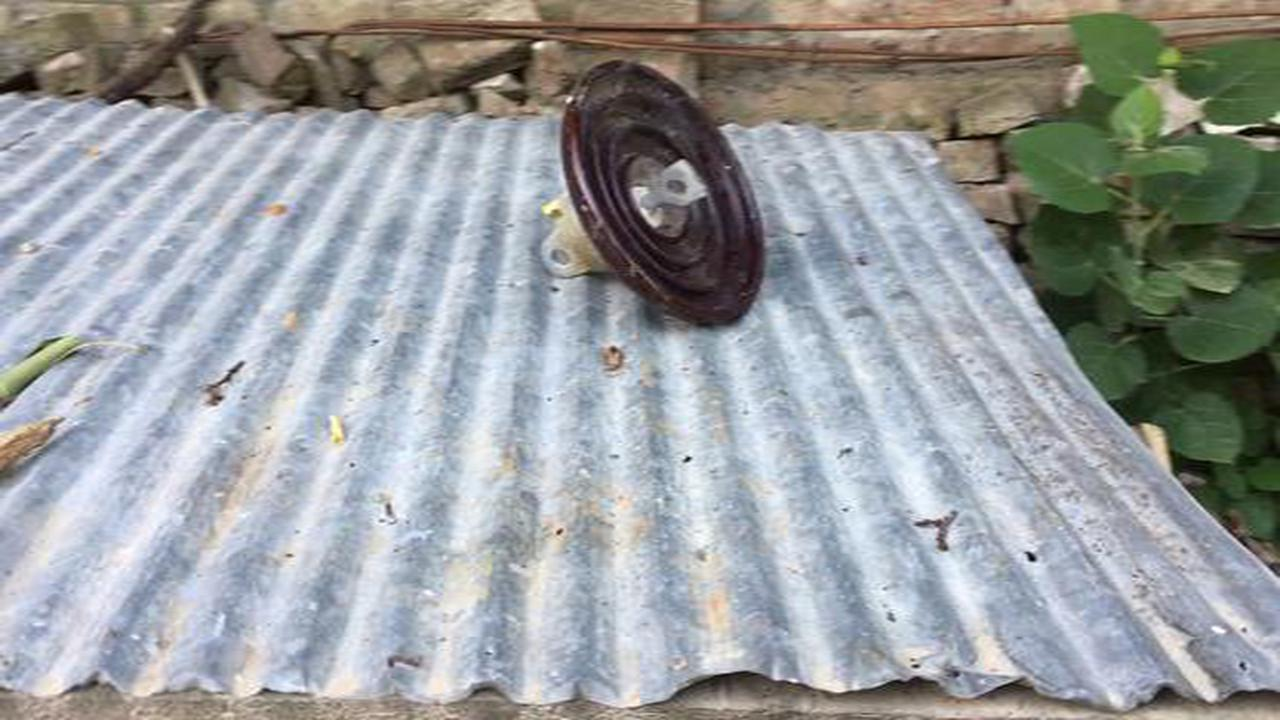insulator_disc: (537, 58, 773, 335)
